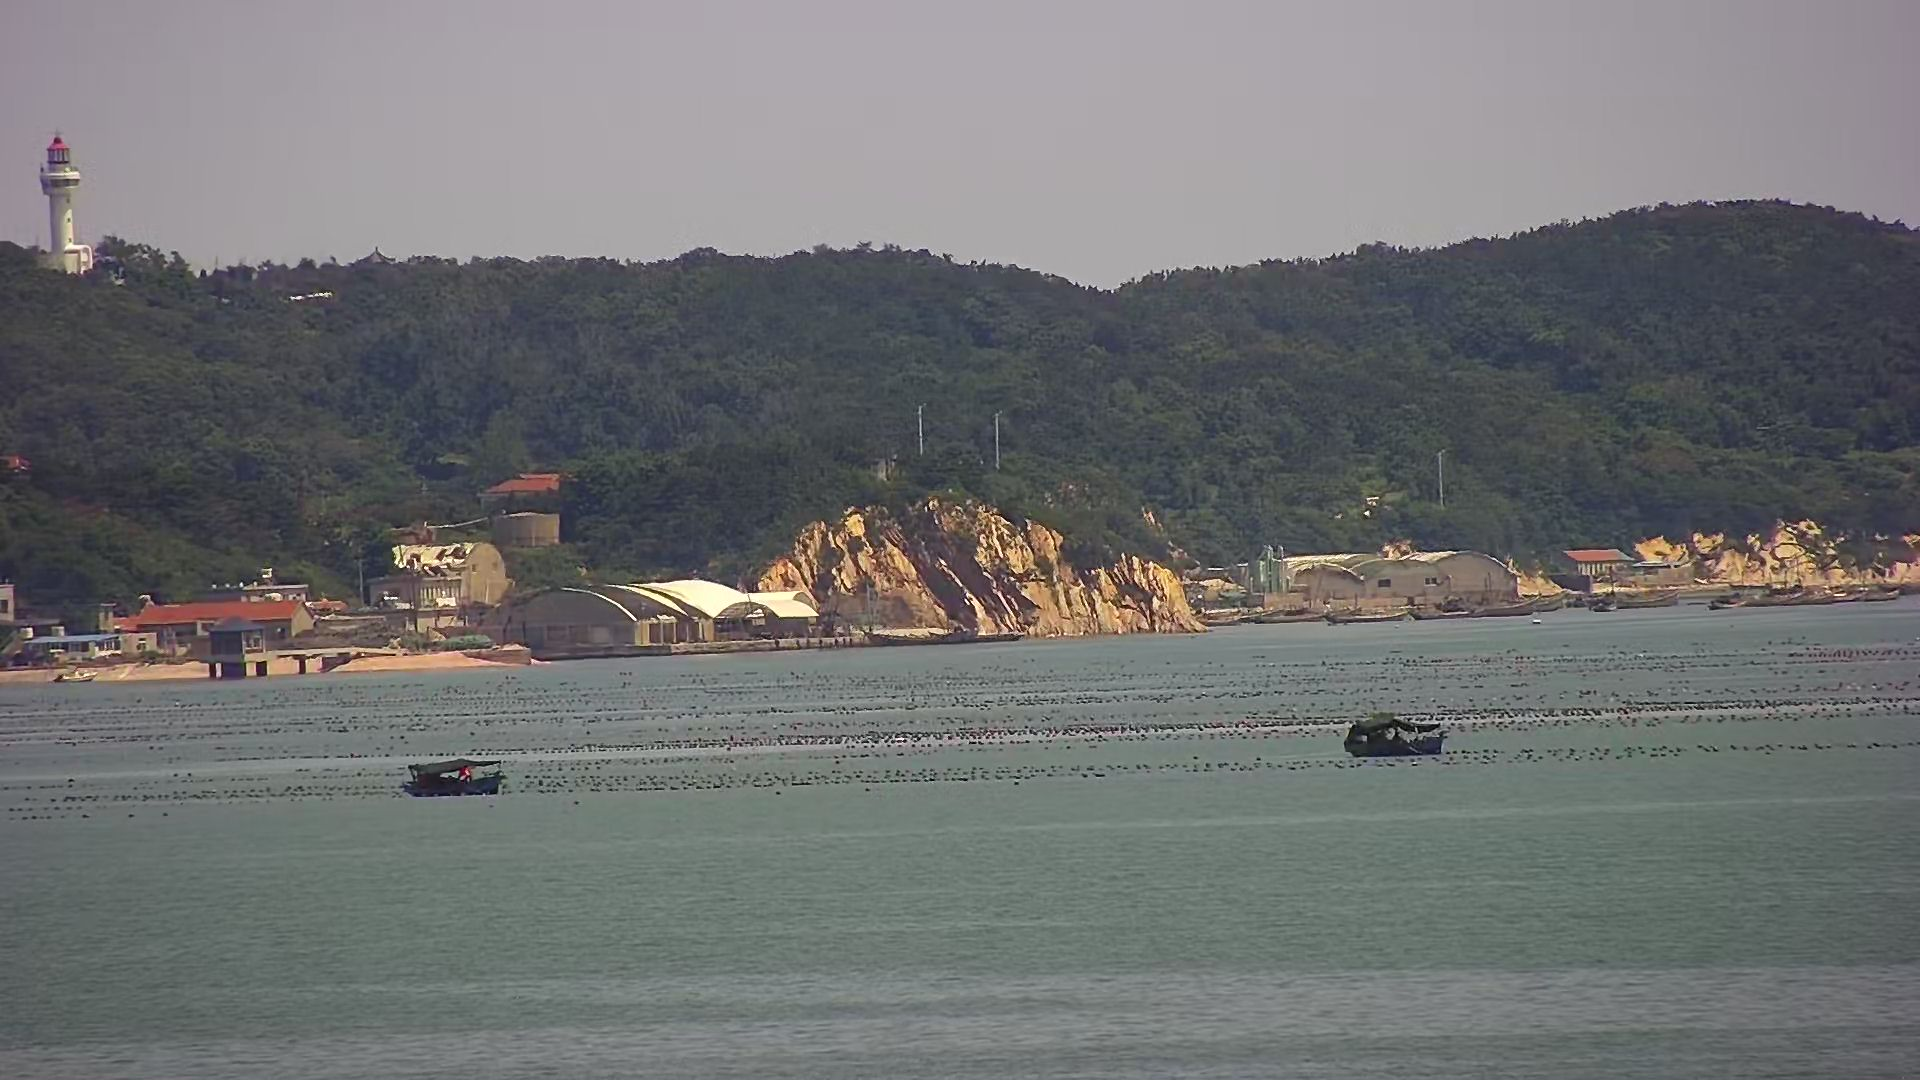boat: (1340, 713, 1449, 761), (401, 752, 506, 798)
